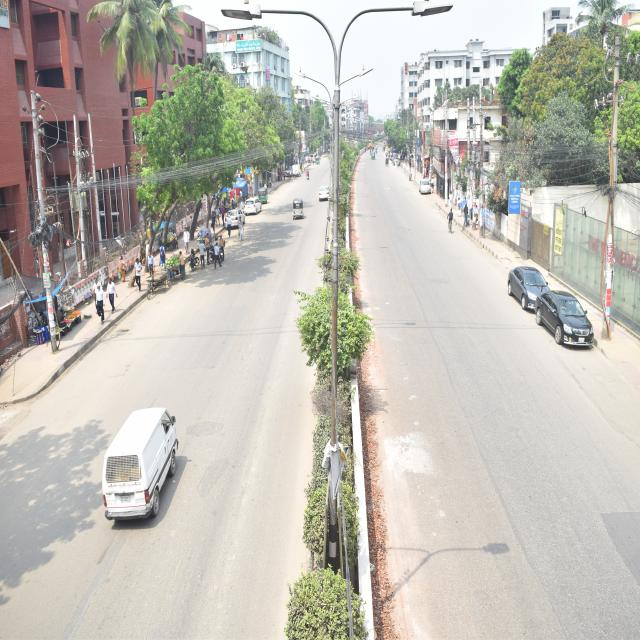car: (530, 282, 600, 357), (490, 245, 558, 314), (208, 195, 252, 238), (418, 172, 448, 202), (242, 191, 268, 220), (312, 178, 329, 213)
microbus: (91, 383, 197, 532)
motorbike: (203, 231, 230, 269), (184, 250, 206, 284), (304, 162, 311, 187)
pickup-van: (292, 155, 302, 182)
